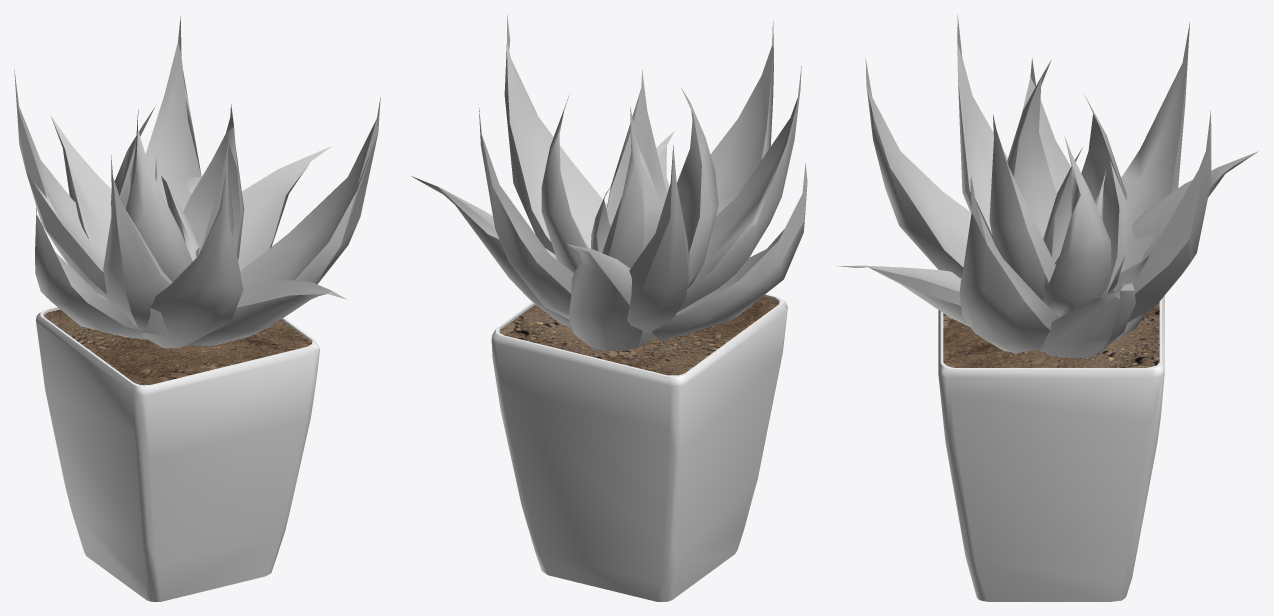
Rendered from Plant 4.FBX.
3 renders of one model, left to right at view 1: azimuth 30°, elevation 25°; view 2: azimuth 150°, elevation 25°; view 3: azimuth 270°, elevation 25°, orthographic. The views are drawn at different scales.
Visible parts, largest first — view 1: Plant 4; view 2: Plant 4; view 3: Plant 4.
Part boxes in pixels (x1=…): Plant 4: x1=14, y1=16, x2=380, y2=601; Plant 4: x1=410, y1=14, x2=807, y2=601; Plant 4: x1=837, y1=15, x2=1258, y2=601.
Size of the model in its own units: 24.55 by 32.92 by 25.19.
